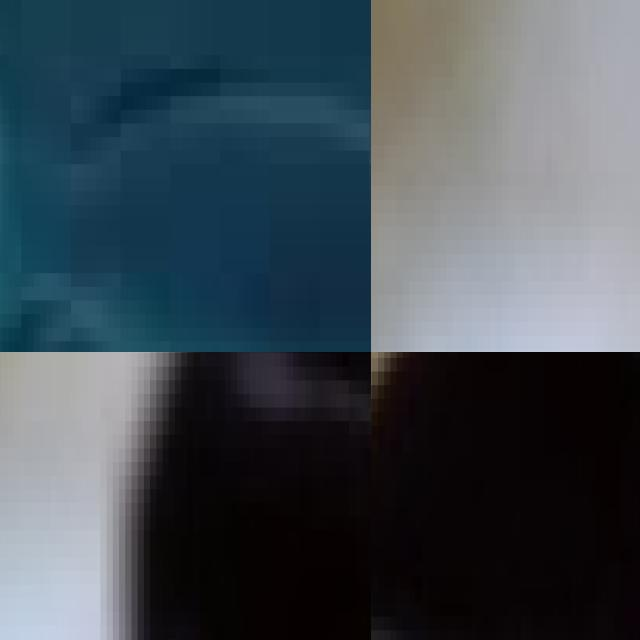fish: (0, 0, 371, 352), (63, 352, 371, 640)
